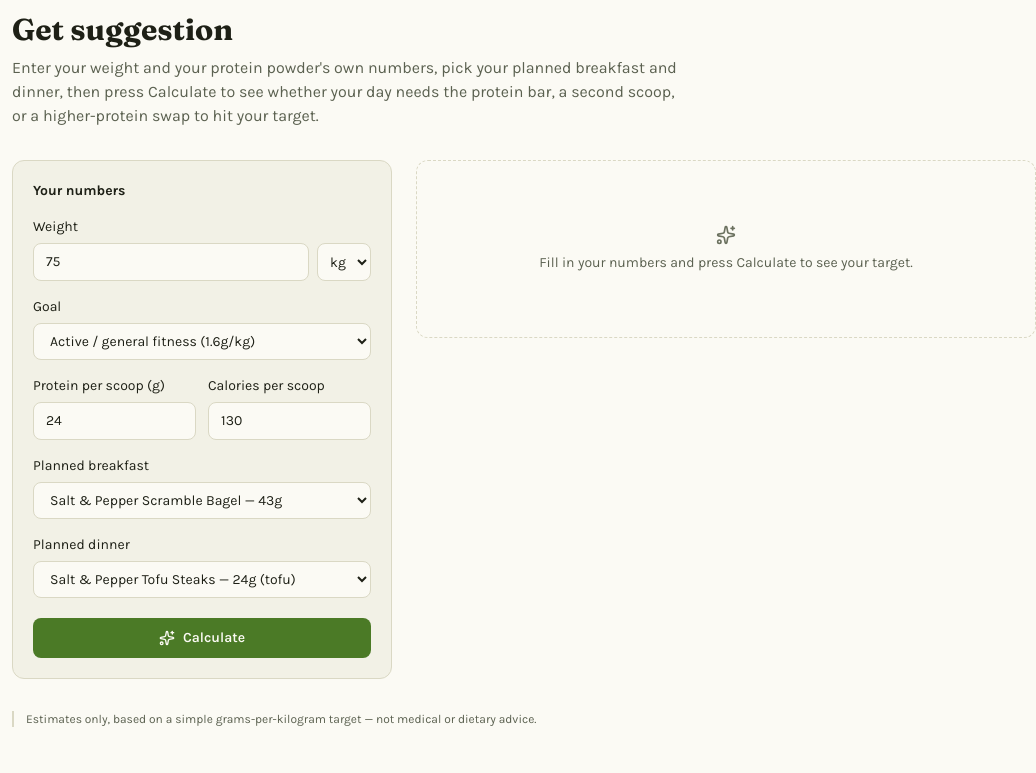
Test: Suggestion › does not update the result when an input changes without recalculating
Step 1. Click the button "Calculate" → (202,638), box left=33, top=618, right=371, bottom=658
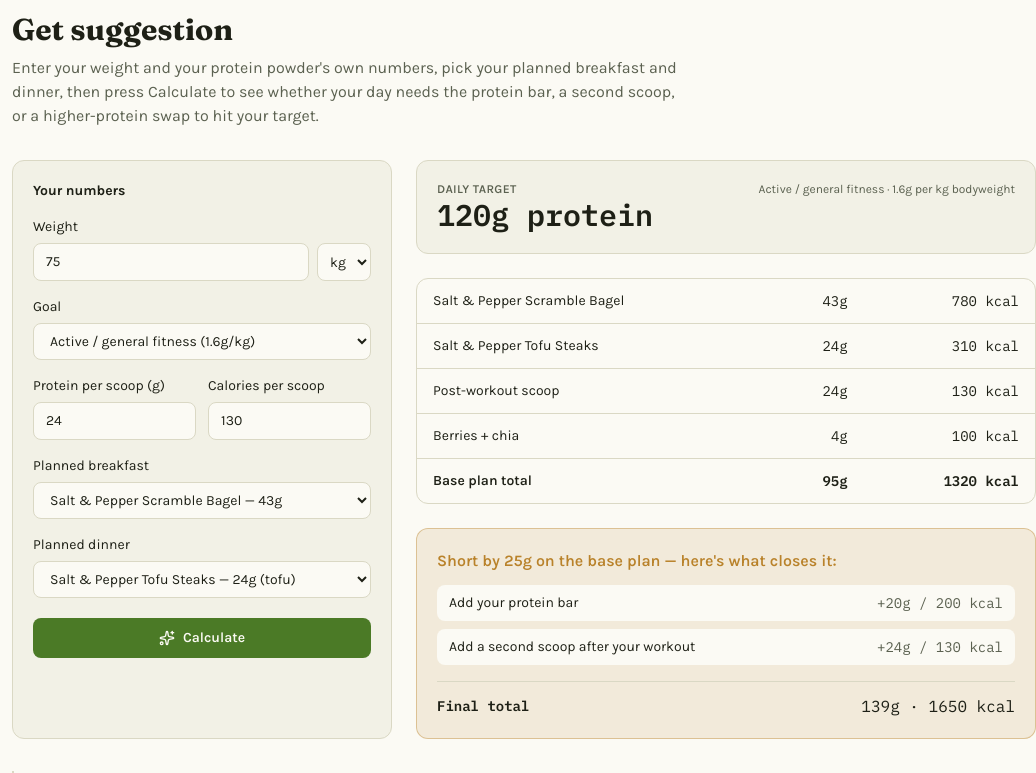
Check: the text "120g protein" is shown, box left=437, top=197, right=653, bottom=233
Step 2. Replace the text in the number field showing "75" with "100" → (171,262), box left=33, top=243, right=309, bottom=281
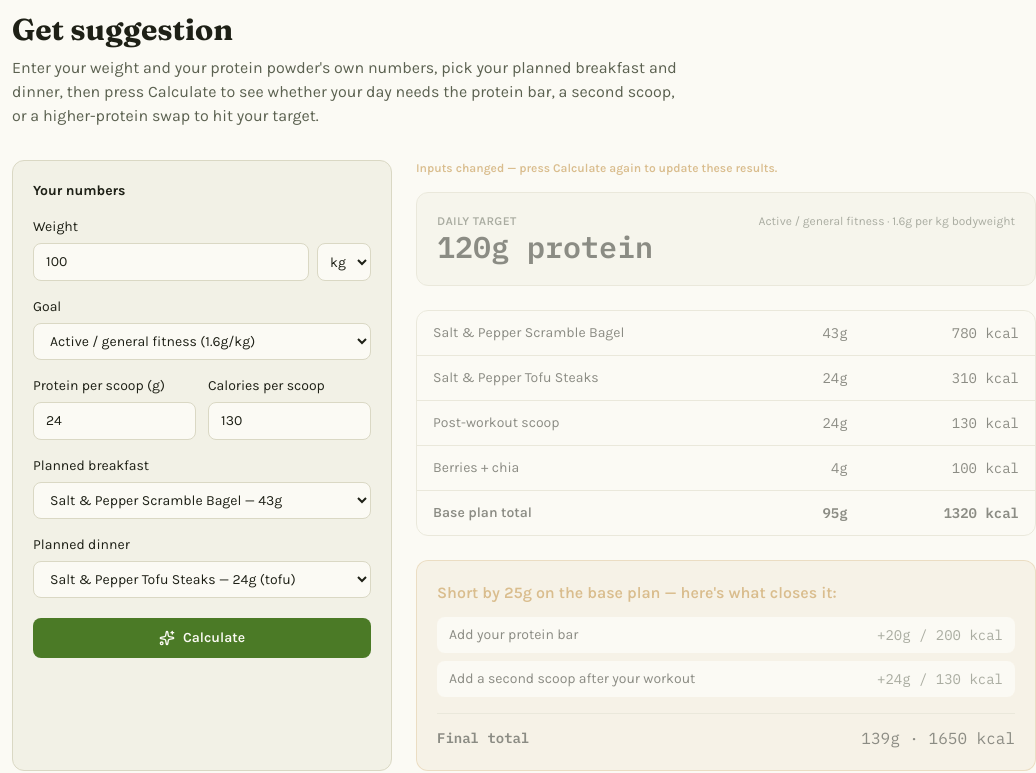
Check: the text "120g protein" is shown, box left=437, top=229, right=653, bottom=265
Check: the text "Inputs changed" is shown, box left=416, top=161, right=777, bottom=175
